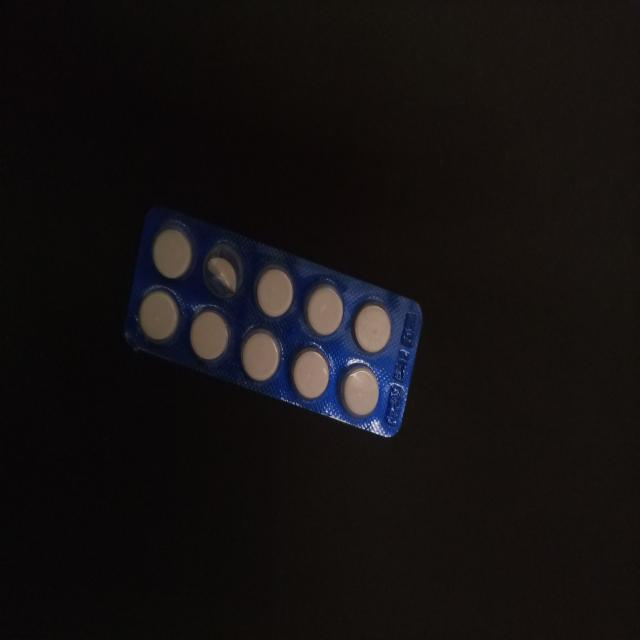defect: (200, 240, 247, 303)
